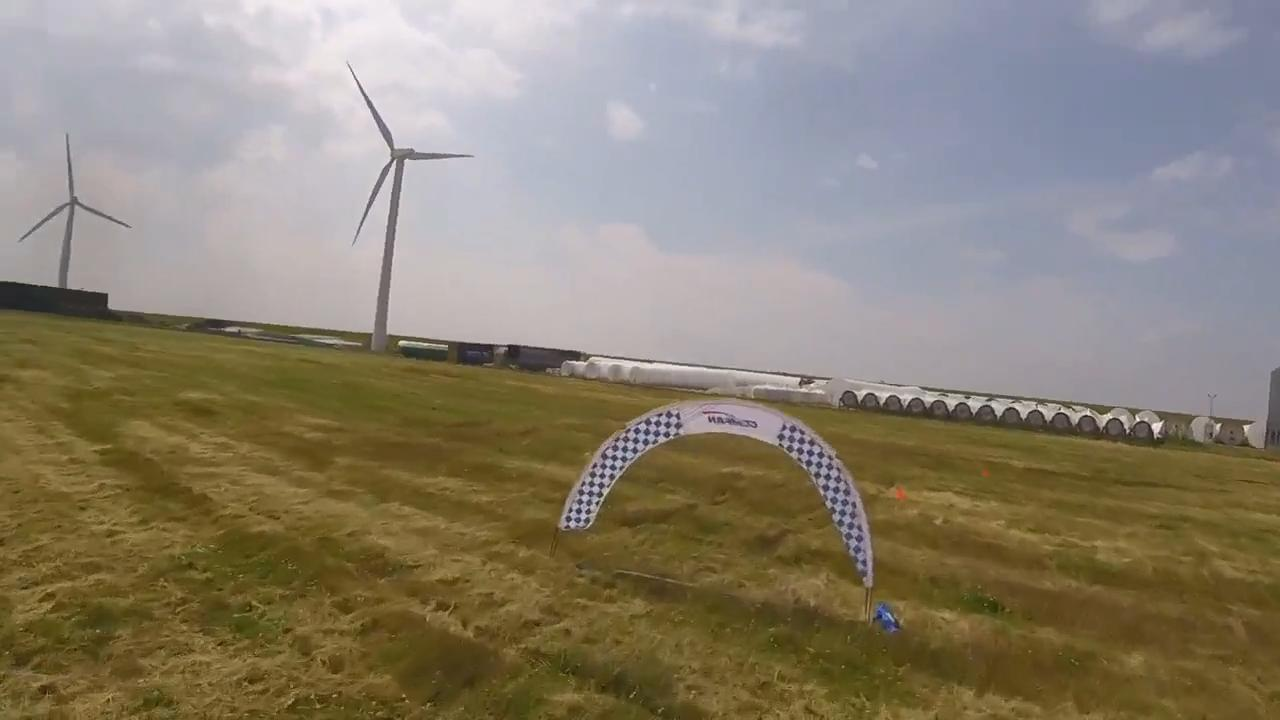gate: (556, 395, 870, 592)
